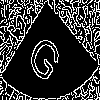G: (24, 24, 69, 86)
